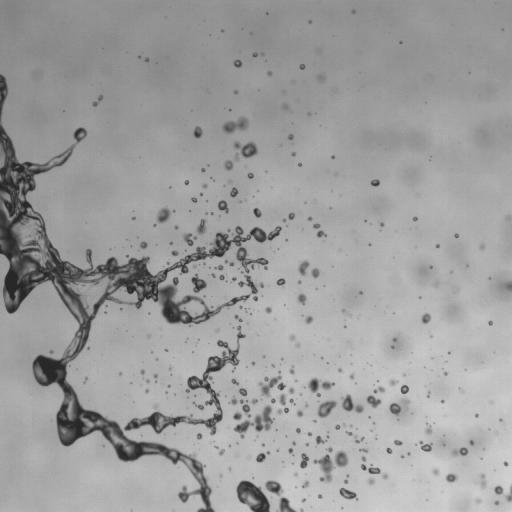droplet: (312, 446, 348, 483), (302, 377, 335, 397), (340, 393, 364, 413), (316, 399, 337, 418), (389, 397, 410, 415), (190, 273, 206, 293), (296, 260, 310, 276), (182, 232, 197, 246), (366, 394, 381, 408), (474, 473, 487, 489), (196, 218, 206, 235), (451, 446, 468, 456), (419, 440, 433, 452), (217, 200, 229, 213), (299, 453, 309, 468), (297, 290, 306, 305), (445, 472, 458, 482), (4, 126, 15, 137), (231, 129, 242, 140), (289, 139, 300, 150), (283, 140, 294, 151), (225, 147, 236, 158), (15, 152, 26, 163), (32, 154, 43, 165), (187, 184, 198, 195), (25, 191, 36, 202), (194, 201, 205, 212), (248, 216, 259, 227), (254, 217, 265, 228), (204, 232, 215, 243), (194, 236, 205, 247), (245, 238, 256, 249), (246, 248, 257, 259), (94, 254, 105, 265), (147, 263, 158, 274), (249, 269, 260, 280), (285, 272, 296, 283), (42, 279, 53, 290), (32, 283, 43, 294), (288, 285, 299, 296), (257, 296, 268, 307), (142, 297, 153, 308), (151, 301, 162, 312), (301, 303, 312, 314), (212, 346, 223, 357), (158, 372, 169, 383), (281, 373, 292, 384), (248, 386, 259, 397), (269, 386, 280, 397), (198, 389, 209, 400), (320, 389, 331, 400), (391, 391, 402, 402), (258, 395, 269, 406), (308, 398, 319, 409), (308, 401, 319, 412), (378, 401, 389, 412), (250, 404, 261, 415), (332, 404, 343, 415), (204, 405, 215, 416), (221, 407, 232, 418), (103, 409, 114, 420), (126, 429, 137, 440), (146, 431, 157, 442), (363, 437, 374, 448), (314, 447, 325, 458), (346, 452, 357, 463), (154, 453, 165, 464), (311, 464, 322, 475), (330, 465, 341, 476), (253, 477, 264, 488), (331, 478, 342, 489), (310, 480, 321, 491), (317, 481, 328, 492), (470, 484, 481, 495), (266, 492, 277, 503), (192, 496, 203, 507), (424, 422, 433, 435), (421, 313, 431, 324), (193, 126, 202, 138), (373, 385, 385, 394), (137, 241, 147, 251), (400, 384, 409, 395), (238, 387, 247, 397), (311, 267, 319, 278), (316, 73, 325, 82), (276, 278, 285, 287), (304, 315, 313, 324), (229, 113, 238, 122), (246, 120, 255, 129), (199, 173, 208, 182), (225, 196, 234, 205), (166, 215, 175, 224), (204, 242, 213, 251), (187, 245, 196, 254), (58, 252, 67, 261), (116, 256, 125, 265), (79, 261, 88, 270), (157, 315, 166, 324), (174, 321, 183, 330), (154, 347, 163, 356), (51, 351, 60, 360), (223, 361, 232, 370), (267, 369, 276, 378), (316, 373, 325, 382), (64, 374, 73, 383), (50, 381, 59, 390), (430, 393, 439, 402), (81, 401, 90, 410), (271, 401, 280, 410), (362, 401, 371, 410), (233, 403, 242, 412), (294, 417, 303, 426), (197, 423, 206, 432), (246, 425, 255, 434), (93, 429, 102, 438), (297, 432, 306, 441), (75, 436, 84, 445), (107, 447, 116, 456), (271, 473, 280, 482), (298, 488, 307, 497), (263, 489, 272, 498), (230, 187, 238, 197), (388, 378, 398, 386), (316, 230, 327, 237), (233, 59, 242, 67), (253, 208, 261, 217), (431, 468, 440, 476), (370, 179, 380, 186), (505, 281, 511, 292), (240, 505, 251, 511), (268, 505, 279, 511), (219, 274, 227, 282), (367, 477, 375, 485), (301, 480, 309, 488), (214, 263, 223, 270), (288, 447, 294, 457), (281, 103, 289, 110), (288, 212, 295, 220), (264, 305, 271, 313), (231, 378, 239, 385), (475, 497, 482, 505), (0, 253, 5, 264), (393, 440, 403, 445), (385, 447, 392, 454), (4, 77, 11, 84), (2, 99, 9, 106), (244, 112, 251, 119), (219, 129, 226, 136), (239, 138, 246, 145), (11, 140, 18, 147), (255, 143, 262, 150), (249, 154, 256, 161), (32, 173, 39, 180), (370, 173, 377, 180), (224, 185, 231, 192), (158, 201, 165, 208), (213, 207, 220, 214), (150, 215, 157, 222), (219, 226, 226, 233), (45, 228, 52, 235), (190, 228, 197, 235), (242, 228, 249, 235), (192, 240, 199, 247), (177, 252, 184, 259), (172, 255, 179, 262), (297, 255, 304, 262), (99, 257, 106, 264), (292, 262, 299, 269), (304, 266, 311, 273), (294, 272, 301, 279), (504, 275, 511, 282), (502, 288, 509, 295), (291, 295, 298, 302), (22, 296, 29, 303), (98, 304, 105, 311), (14, 308, 21, 315), (237, 310, 244, 317), (337, 312, 344, 319), (208, 315, 215, 322), (89, 319, 96, 326), (72, 322, 79, 329), (87, 329, 94, 336), (295, 334, 302, 341), (229, 343, 236, 350), (42, 350, 49, 357), (29, 353, 36, 360), (264, 357, 271, 364), (200, 362, 207, 369), (64, 365, 71, 372), (343, 368, 350, 375), (144, 371, 151, 378), (304, 375, 311, 382), (381, 380, 388, 387), (147, 381, 154, 388), (394, 382, 401, 389), (232, 384, 239, 391), (293, 384, 300, 391), (316, 385, 323, 392), (304, 386, 311, 393), (204, 392, 211, 399), (234, 392, 241, 399), (284, 392, 291, 399), (373, 392, 380, 399), (245, 393, 252, 400), (351, 398, 358, 405), (335, 399, 342, 406), (295, 402, 302, 409), (53, 403, 60, 410), (288, 405, 295, 412), (99, 409, 106, 416), (144, 409, 151, 416), (234, 418, 241, 425), (50, 420, 57, 427), (118, 421, 125, 428), (175, 421, 182, 428), (214, 421, 221, 428), (269, 422, 276, 429), (144, 423, 151, 430), (300, 426, 307, 433), (233, 430, 240, 437), (308, 435, 315, 442), (53, 437, 60, 444), (164, 441, 171, 448), (358, 441, 365, 448), (463, 441, 470, 448), (389, 443, 396, 450), (178, 446, 185, 453), (251, 450, 258, 457), (316, 452, 323, 459), (328, 452, 335, 459), (138, 454, 145, 461), (194, 454, 201, 461), (125, 459, 132, 466), (449, 467, 456, 474), (202, 468, 209, 475), (317, 469, 324, 476), (439, 471, 446, 478), (206, 479, 213, 486), (279, 481, 286, 488), (193, 482, 200, 489), (345, 483, 352, 490), (502, 487, 509, 494), (280, 490, 287, 497), (194, 493, 201, 500), (496, 493, 503, 500), (207, 494, 214, 501), (198, 501, 205, 508), (209, 501, 216, 508), (288, 501, 295, 508), (313, 222, 321, 228), (348, 372, 354, 380), (289, 398, 295, 406), (491, 506, 500, 511), (287, 133, 293, 140), (247, 172, 254, 178), (190, 196, 197, 202), (479, 243, 485, 250), (230, 276, 236, 283), (433, 280, 439, 287), (304, 431, 312, 436), (378, 221, 384, 227), (453, 287, 459, 293), (334, 424, 340, 430), (196, 433, 202, 439), (0, 158, 4, 167), (0, 278, 4, 287), (299, 64, 305, 69), (307, 216, 313, 221), (412, 216, 418, 221), (210, 273, 215, 279), (184, 337, 190, 342), (361, 455, 366, 461), (293, 471, 298, 477), (507, 274, 511, 281), (507, 458, 511, 465), (252, 52, 257, 57), (144, 57, 149, 62), (267, 71, 272, 76), (184, 180, 189, 185), (202, 183, 207, 188), (506, 215, 511, 220), (454, 233, 459, 238), (392, 337, 397, 342), (168, 365, 173, 370), (338, 367, 343, 372), (443, 371, 448, 376), (145, 388, 150, 393), (469, 440, 474, 445), (503, 461, 508, 466), (494, 500, 499, 505), (255, 48, 260, 53), (140, 54, 145, 59), (240, 63, 245, 68), (234, 66, 239, 71), (268, 66, 273, 71), (1, 71, 6, 76), (262, 72, 267, 77), (92, 96, 97, 101), (97, 100, 102, 105), (87, 101, 92, 106), (90, 105, 95, 110), (71, 126, 76, 131), (189, 132, 194, 137), (283, 132, 288, 137), (199, 134, 204, 139), (196, 136, 201, 141), (71, 137, 76, 142), (79, 139, 84, 144), (72, 147, 77, 152), (238, 153, 243, 158), (27, 157, 32, 162), (66, 157, 71, 162), (232, 161, 237, 166), (201, 163, 206, 168), (54, 165, 59, 170), (220, 165, 225, 170), (204, 166, 209, 171), (245, 168, 250, 173), (226, 169, 231, 174), (199, 187, 204, 192), (194, 193, 199, 198), (216, 196, 221, 201), (213, 200, 218, 205), (257, 205, 262, 210), (167, 206, 172, 211), (249, 211, 254, 216), (283, 213, 288, 218), (202, 214, 207, 219), (285, 218, 290, 223), (311, 218, 316, 223), (195, 220, 200, 225), (203, 221, 208, 226), (278, 221, 283, 226), (44, 224, 49, 229), (248, 224, 253, 229), (375, 224, 380, 229), (313, 227, 318, 232), (264, 230, 269, 235), (241, 232, 246, 237), (273, 235, 278, 240), (136, 238, 141, 243), (264, 238, 269, 243), (182, 241, 187, 246), (240, 241, 245, 246), (51, 242, 56, 247), (146, 243, 151, 248), (484, 244, 489, 249), (170, 245, 175, 250), (106, 253, 111, 258), (92, 262, 97, 267), (253, 262, 258, 267), (163, 263, 168, 268), (246, 263, 251, 268), (258, 263, 263, 268), (317, 273, 322, 278), (52, 289, 57, 294), (301, 289, 306, 294), (353, 289, 358, 294), (255, 291, 260, 296), (55, 295, 60, 300), (57, 298, 62, 303), (304, 298, 309, 303), (103, 299, 108, 304), (235, 300, 240, 305), (265, 301, 270, 306), (296, 301, 301, 306), (115, 302, 120, 307), (62, 305, 67, 310), (270, 306, 275, 311), (345, 306, 350, 311), (424, 308, 429, 313), (337, 310, 342, 315), (262, 311, 267, 316), (267, 312, 272, 317), (303, 312, 308, 317), (68, 313, 73, 318), (311, 314, 316, 319), (301, 315, 306, 320), (417, 315, 422, 320), (310, 319, 315, 324), (234, 320, 239, 325), (425, 321, 430, 326), (183, 322, 188, 327), (233, 329, 238, 334), (291, 329, 296, 334), (284, 332, 289, 337), (221, 337, 226, 342), (238, 337, 243, 342), (212, 338, 217, 343), (290, 340, 295, 345), (389, 340, 394, 345), (84, 341, 89, 346), (392, 341, 397, 346), (81, 346, 86, 351), (220, 346, 225, 351), (152, 352, 157, 357), (217, 352, 222, 357), (235, 353, 240, 358), (323, 356, 328, 361), (27, 362, 32, 367), (336, 362, 341, 367), (138, 364, 143, 369), (293, 367, 298, 372), (152, 368, 157, 373), (170, 368, 175, 373), (135, 369, 140, 374), (438, 370, 443, 375), (188, 371, 193, 376), (336, 371, 341, 376), (230, 373, 235, 378), (197, 374, 202, 379), (388, 374, 393, 379), (149, 376, 154, 381), (345, 376, 350, 381), (327, 377, 332, 382), (182, 378, 187, 383), (33, 380, 38, 385), (143, 383, 148, 388), (183, 383, 188, 388), (209, 383, 214, 388), (272, 383, 277, 388), (329, 385, 334, 390), (282, 387, 287, 392), (189, 388, 194, 393), (368, 390, 373, 395), (311, 391, 316, 396), (341, 392, 346, 397), (399, 392, 404, 397), (241, 395, 246, 400), (284, 397, 289, 402), (199, 400, 204, 405), (247, 401, 252, 406), (285, 401, 290, 406), (398, 402, 403, 407), (407, 402, 412, 407), (376, 403, 381, 408), (279, 404, 284, 409), (330, 407, 335, 412), (301, 408, 306, 413), (350, 408, 355, 413), (385, 408, 390, 413), (342, 409, 347, 414), (398, 410, 403, 415), (172, 412, 177, 417), (268, 412, 273, 417), (390, 412, 395, 417), (51, 415, 56, 420), (299, 415, 304, 420), (315, 415, 320, 420), (370, 416, 375, 421), (367, 418, 372, 423), (167, 423, 172, 428), (188, 423, 193, 428), (368, 423, 373, 428), (421, 423, 426, 428), (162, 427, 167, 432), (260, 427, 265, 432), (214, 430, 219, 435), (369, 431, 374, 436), (191, 433, 196, 438), (311, 433, 316, 438), (320, 435, 325, 440), (348, 435, 353, 440), (396, 435, 401, 440), (103, 438, 108, 443), (230, 441, 235, 446), (287, 442, 292, 447), (317, 442, 322, 447), (218, 444, 223, 449), (455, 444, 460, 449), (214, 448, 219, 453), (269, 448, 274, 453), (359, 450, 364, 455), (423, 450, 428, 455), (457, 453, 462, 458), (297, 456, 302, 461), (166, 458, 171, 463), (262, 458, 267, 463), (176, 459, 181, 464), (306, 459, 311, 464), (256, 461, 261, 466), (372, 462, 377, 467), (365, 463, 370, 468), (432, 463, 437, 468), (303, 466, 308, 471), (379, 468, 384, 473), (480, 468, 485, 473), (370, 472, 375, 477), (428, 472, 433, 477), (387, 473, 392, 478), (475, 475, 480, 480), (484, 475, 489, 480), (249, 478, 254, 483), (234, 480, 239, 485), (298, 480, 303, 485), (320, 480, 325, 485), (451, 480, 456, 485), (493, 481, 498, 486), (365, 483, 370, 488), (370, 483, 375, 488), (475, 483, 480, 488), (303, 486, 308, 491), (177, 487, 182, 492), (185, 487, 190, 492), (489, 488, 494, 493), (232, 491, 237, 496), (337, 494, 342, 499), (176, 497, 181, 502), (350, 497, 355, 502), (478, 502, 483, 507), (493, 504, 498, 509), (463, 263, 469, 267), (214, 328, 220, 332), (296, 428, 300, 434), (351, 9, 355, 14), (233, 90, 238, 94), (297, 162, 302, 166), (210, 177, 215, 181), (227, 179, 232, 183), (358, 290, 363, 294), (488, 320, 492, 325), (251, 361, 255, 366), (342, 422, 346, 427), (349, 423, 353, 428), (317, 494, 322, 498), (301, 498, 306, 502), (260, 52, 264, 56), (291, 152, 295, 156), (331, 155, 335, 159), (201, 168, 205, 172), (199, 192, 203, 196), (131, 216, 135, 220), (282, 218, 286, 222), (174, 225, 178, 229), (169, 241, 173, 245), (435, 243, 439, 247), (429, 265, 433, 269), (297, 280, 301, 284), (147, 334, 151, 338), (390, 345, 394, 349), (86, 346, 90, 350), (49, 350, 53, 354), (271, 363, 275, 367), (118, 371, 122, 375), (440, 399, 444, 403), (489, 400, 493, 404), (474, 413, 478, 417), (494, 431, 498, 435), (292, 441, 296, 445), (305, 442, 309, 446), (400, 454, 404, 458), (299, 391, 302, 396), (374, 434, 377, 439), (228, 466, 231, 471), (508, 500, 511, 505), (247, 508, 252, 511), (137, 55, 141, 58), (307, 112, 311, 115), (210, 212, 214, 215), (449, 270, 453, 273), (103, 311, 107, 314), (249, 312, 253, 315), (429, 334, 433, 337), (164, 348, 168, 351), (155, 357, 158, 361), (294, 379, 298, 382), (312, 419, 316, 422), (372, 421, 375, 425), (261, 443, 265, 446), (276, 448, 279, 452), (406, 452, 410, 455), (219, 473, 222, 477), (308, 20, 311, 23), (220, 29, 223, 32), (399, 40, 402, 43), (228, 108, 231, 111), (329, 206, 332, 209), (204, 212, 207, 215), (368, 243, 371, 246), (488, 276, 491, 279), (418, 296, 421, 299), (246, 322, 249, 325), (343, 325, 346, 328), (150, 350, 153, 353), (447, 351, 450, 354), (262, 355, 265, 358), (320, 356, 323, 359), (464, 368, 467, 371), (167, 384, 170, 387), (102, 444, 105, 447), (228, 444, 231, 447), (281, 460, 284, 463), (291, 462, 294, 465), (294, 485, 297, 488), (300, 508, 303, 511), (267, 10, 270, 13), (263, 13, 266, 16), (267, 13, 270, 16), (308, 16, 311, 19), (311, 19, 314, 22), (307, 23, 310, 26), (503, 27, 506, 30), (217, 28, 220, 31), (223, 28, 226, 31), (219, 31, 222, 34), (396, 39, 399, 42), (401, 39, 404, 42), (399, 43, 402, 46), (137, 52, 140, 55), (249, 52, 252, 55), (257, 53, 260, 56), (134, 55, 137, 58), (252, 56, 255, 59), (148, 58, 151, 61), (240, 59, 243, 62), (300, 60, 303, 63), (144, 61, 147, 64), (304, 64, 307, 67), (232, 65, 235, 68), (297, 67, 300, 70), (303, 67, 306, 70), (300, 69, 303, 72), (271, 72, 274, 75), (230, 90, 233, 93), (237, 90, 240, 93), (100, 91, 103, 94), (234, 93, 237, 96), (229, 105, 232, 108), (225, 107, 228, 110), (291, 131, 294, 134), (292, 136, 295, 139), (289, 139, 292, 142), (291, 148, 294, 151), (55, 152, 58, 155), (288, 152, 291, 155), (295, 152, 298, 155), (330, 152, 333, 155), (334, 154, 337, 157), (290, 155, 293, 158), (330, 158, 333, 161), (297, 159, 300, 162), (206, 160, 209, 163), (301, 162, 304, 165), (296, 165, 299, 168), (198, 168, 201, 171), (201, 171, 204, 174), (252, 171, 255, 174), (184, 176, 187, 179), (245, 176, 248, 179), (250, 177, 253, 180), (209, 178, 212, 181), (214, 179, 217, 182), (181, 182, 184, 185), (187, 182, 190, 185), (166, 183, 169, 186), (184, 184, 187, 187), (372, 185, 375, 188), (170, 186, 173, 189), (236, 187, 239, 190), (256, 191, 259, 194), (202, 192, 205, 195), (235, 193, 238, 196), (241, 200, 244, 203), (191, 201, 194, 204), (226, 204, 229, 207), (252, 205, 255, 208), (174, 207, 177, 210), (185, 208, 188, 211), (190, 208, 193, 211), (221, 209, 224, 212), (38, 210, 41, 213), (207, 211, 210, 214), (131, 213, 134, 216), (41, 214, 44, 217), (305, 214, 308, 217), (310, 214, 313, 217), (415, 214, 418, 217), (259, 215, 262, 218), (135, 216, 138, 219), (128, 217, 131, 220), (292, 217, 295, 220), (409, 218, 412, 221), (132, 219, 135, 222), (360, 219, 363, 222), (366, 219, 369, 222), (379, 219, 382, 222), (415, 219, 418, 222), (383, 221, 386, 224), (175, 222, 178, 225), (171, 226, 174, 229), (380, 226, 383, 229), (455, 230, 458, 233), (326, 234, 329, 237), (458, 234, 461, 237), (451, 235, 454, 238), (455, 237, 458, 240), (168, 238, 171, 241), (287, 238, 290, 241), (144, 239, 147, 242), (436, 240, 439, 243), (365, 241, 368, 244), (370, 241, 373, 244), (432, 244, 435, 247), (439, 244, 442, 247), (368, 245, 371, 248), (88, 246, 91, 249), (435, 247, 438, 250), (168, 251, 171, 254), (264, 256, 267, 259), (428, 262, 431, 265), (168, 263, 171, 266), (462, 263, 465, 266), (466, 266, 469, 269), (161, 267, 164, 270), (431, 267, 434, 270), (428, 268, 431, 271), (264, 269, 267, 272), (279, 275, 282, 278), (485, 275, 488, 278), (490, 275, 493, 278), (276, 276, 279, 279), (284, 279, 287, 282), (487, 279, 490, 282), (262, 282, 265, 285), (282, 283, 285, 286), (298, 283, 301, 286), (278, 284, 281, 287), (360, 288, 363, 291), (418, 292, 421, 295), (358, 294, 361, 297), (257, 296, 260, 299), (418, 298, 421, 301), (282, 300, 285, 303), (119, 303, 122, 306), (285, 303, 288, 306), (392, 308, 395, 311), (247, 309, 250, 312), (251, 311, 254, 314), (246, 312, 249, 315), (147, 314, 150, 317), (231, 315, 234, 318), (344, 315, 347, 318), (486, 318, 489, 321), (199, 321, 202, 324), (238, 321, 241, 324), (492, 321, 495, 324), (344, 322, 347, 325), (485, 322, 488, 325), (340, 323, 343, 326), (489, 324, 492, 327), (343, 327, 346, 330), (393, 334, 396, 337), (196, 335, 199, 338), (234, 335, 237, 338), (188, 336, 191, 339), (182, 337, 185, 340), (193, 338, 196, 341), (396, 338, 399, 341), (197, 340, 200, 343), (182, 342, 185, 345), (196, 343, 199, 346), (164, 345, 167, 348), (191, 347, 194, 350), (388, 347, 391, 350), (447, 348, 450, 351), (188, 349, 191, 352), (163, 350, 166, 353), (262, 351, 265, 354), (444, 351, 447, 354), (450, 351, 453, 354), (192, 352, 195, 355), (211, 353, 214, 356), (264, 356, 267, 359), (283, 357, 286, 360), (317, 357, 320, 360), (252, 358, 255, 361), (155, 360, 158, 363), (280, 360, 283, 363), (254, 362, 257, 365), (249, 363, 252, 366), (324, 363, 327, 366), (268, 364, 271, 367), (165, 365, 168, 368), (341, 367, 344, 370), (334, 368, 337, 371), (442, 368, 445, 371), (233, 369, 236, 372), (167, 370, 170, 373), (404, 370, 407, 373), (115, 372, 118, 375), (121, 372, 124, 375), (279, 372, 282, 375), (446, 373, 449, 376), (139, 374, 142, 377), (353, 374, 356, 377), (169, 375, 172, 378), (87, 376, 90, 379), (376, 376, 379, 379), (81, 377, 84, 380), (235, 378, 238, 381), (85, 379, 88, 382), (229, 381, 232, 384), (129, 383, 132, 386), (164, 383, 167, 386), (233, 383, 236, 386), (406, 383, 409, 386), (460, 385, 463, 388), (166, 387, 169, 390), (397, 388, 400, 391), (161, 390, 164, 393), (246, 390, 249, 393), (147, 391, 150, 394), (183, 391, 186, 394), (424, 391, 427, 394), (404, 392, 407, 395), (429, 394, 432, 397), (441, 396, 444, 399), (425, 397, 428, 400), (438, 397, 441, 400), (439, 402, 442, 405), (191, 403, 194, 406), (475, 410, 478, 413), (286, 411, 289, 414), (471, 413, 474, 416), (477, 414, 480, 417), (501, 416, 504, 419), (496, 419, 499, 422), (374, 420, 377, 423), (311, 421, 314, 424), (499, 421, 502, 424), (431, 423, 434, 426), (339, 426, 342, 429), (299, 427, 302, 430), (332, 427, 335, 430), (490, 427, 493, 430), (347, 428, 350, 431), (308, 429, 311, 432), (294, 431, 297, 434), (327, 432, 330, 435), (344, 432, 347, 435), (304, 433, 307, 436), (281, 434, 284, 437), (376, 435, 379, 438), (198, 438, 201, 441), (362, 438, 365, 441), (294, 439, 297, 442), (374, 439, 377, 442), (472, 439, 475, 442), (214, 442, 217, 445), (264, 442, 267, 445), (430, 444, 433, 447), (275, 445, 278, 448), (291, 445, 294, 448), (278, 448, 281, 451), (285, 449, 288, 452), (367, 449, 370, 452), (420, 449, 423, 452), (291, 450, 294, 453), (384, 450, 387, 453), (223, 451, 226, 454), (275, 451, 278, 454), (409, 452, 412, 455), (466, 452, 469, 455), (264, 453, 267, 456), (403, 453, 406, 456), (480, 454, 483, 457), (401, 457, 404, 460), (479, 459, 482, 462), (280, 462, 283, 465), (503, 465, 506, 468), (378, 466, 381, 469), (225, 468, 228, 471), (230, 468, 233, 471), (292, 475, 295, 478), (343, 475, 346, 478), (346, 477, 349, 480), (316, 478, 319, 481), (307, 482, 310, 485), (300, 487, 303, 490), (336, 490, 339, 493), (319, 491, 322, 494), (314, 494, 317, 497), (299, 496, 302, 499), (318, 497, 321, 500), (303, 500, 306, 503), (491, 500, 494, 503), (497, 503, 500, 506), (337, 506, 340, 509), (203, 262, 205, 266), (430, 357, 434, 359), (165, 390, 167, 394), (205, 200, 208, 202), (304, 201, 306, 204), (189, 209, 191, 212), (218, 214, 220, 217), (364, 219, 366, 222), (285, 238, 287, 241), (155, 243, 157, 246), (208, 266, 211, 268), (120, 307, 122, 310), (301, 314, 304, 316), (281, 357, 283, 360), (326, 362, 329, 364), (376, 380, 379, 382), (194, 394, 196, 397), (397, 417, 399, 420), (355, 427, 358, 429), (414, 443, 417, 445), (443, 443, 445, 446), (482, 448, 485, 450), (480, 457, 483, 459), (252, 476, 254, 479), (341, 506, 343, 509), (303, 509, 306, 511), (340, 509, 343, 511), (266, 12, 268, 14), (501, 28, 503, 30), (250, 32, 252, 34), (207, 164, 209, 166), (265, 170, 267, 172), (223, 184, 225, 186), (169, 186, 171, 188), (257, 189, 259, 191), (252, 195, 254, 197), (130, 245, 132, 247), (109, 248, 111, 250), (315, 288, 317, 290), (203, 295, 205, 297), (148, 312, 150, 314), (393, 312, 395, 314), (232, 326, 234, 328), (192, 351, 194, 353), (445, 360, 447, 362), (170, 373, 172, 375), (130, 381, 132, 383), (354, 382, 356, 384), (173, 393, 175, 395), (224, 395, 226, 397), (260, 398, 262, 400), (368, 416, 370, 418), (275, 429, 277, 431), (370, 429, 372, 431), (488, 428, 490, 430), (140, 434, 142, 436), (285, 435, 287, 437), (236, 442, 238, 444), (130, 509, 132, 511), (379, 230, 381, 231), (137, 236, 138, 238), (277, 248, 279, 249), (323, 285, 325, 286), (370, 223, 371, 224), (286, 226, 287, 227), (302, 228, 303, 229), (275, 318, 276, 319), (160, 336, 161, 337), (187, 397, 188, 398)
ligament: (264, 480, 297, 511), (222, 116, 249, 134), (153, 205, 175, 227), (360, 464, 388, 479), (339, 487, 358, 500), (345, 431, 364, 443), (315, 430, 329, 446), (287, 333, 300, 348), (296, 401, 308, 417), (255, 451, 270, 462), (92, 94, 103, 107), (140, 369, 149, 383), (171, 249, 186, 256), (341, 308, 351, 317), (238, 305, 250, 312), (224, 259, 235, 266), (289, 364, 295, 375), (234, 314, 242, 322), (153, 373, 158, 383), (358, 447, 368, 452), (344, 474, 349, 484), (238, 198, 247, 203), (191, 263, 200, 268), (458, 387, 464, 393), (83, 376, 88, 383), (195, 338, 199, 346), (426, 390, 430, 398), (499, 418, 504, 424), (402, 372, 409, 376), (254, 434, 258, 441), (209, 440, 215, 444), (367, 362, 372, 366)
